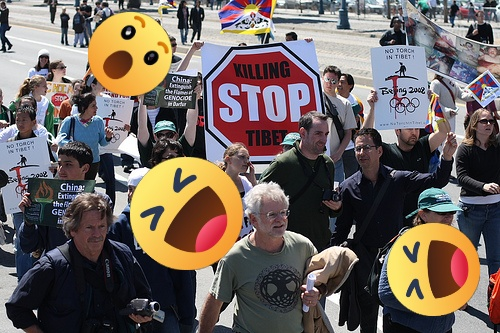haha: (130, 157, 243, 270), (387, 223, 480, 316)
wow: (88, 12, 172, 96)
